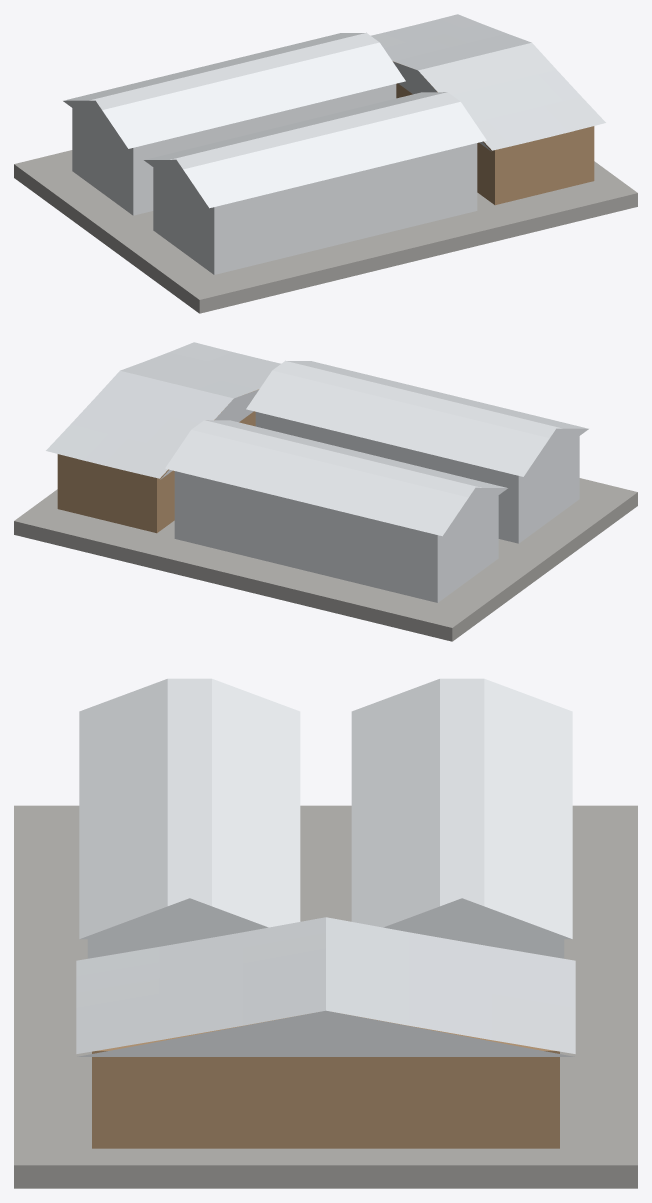
File: lm_81_nha_long_phoi_hong_treo_gio_xuan_tho_trai_mat.glb
The picture shows the model from 3 angles, top to bottom: view 1: azimuth 30°, elevation 25°; view 2: azimuth 150°, elevation 25°; view 3: azimuth 270°, elevation 25°; orthographic projection. The views are drawn at different scales.
Visible parts, largest first — view 1: lm_81_nha_long_phoi_hong_treo_gio_xuan_tho_trai_mat; view 2: lm_81_nha_long_phoi_hong_treo_gio_xuan_tho_trai_mat; view 3: lm_81_nha_long_phoi_hong_treo_gio_xuan_tho_trai_mat.
Boxes of the visible parts, x1=… form: lm_81_nha_long_phoi_hong_treo_gio_xuan_tho_trai_mat: x1=14, y1=14, x2=637, y2=313; lm_81_nha_long_phoi_hong_treo_gio_xuan_tho_trai_mat: x1=14, y1=342, x2=637, y2=641; lm_81_nha_long_phoi_hong_treo_gio_xuan_tho_trai_mat: x1=14, y1=678, x2=637, y2=1188.
Size of the model in its own units: 30 by 7.1 by 22.
